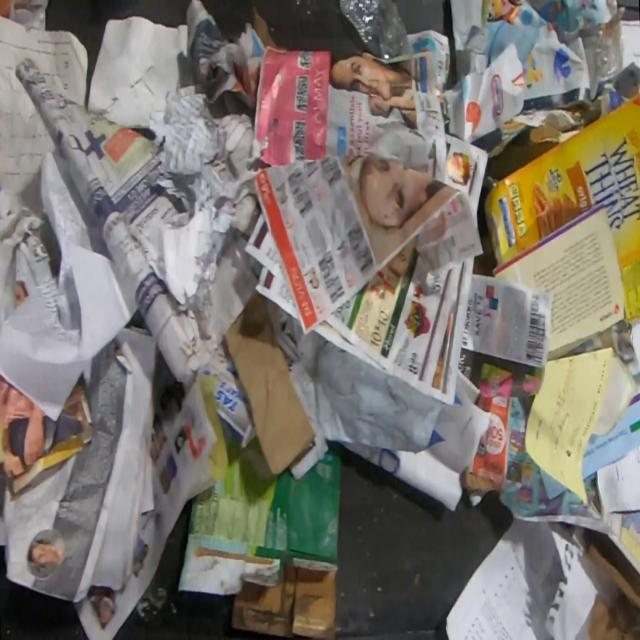cardboard: (482, 89, 640, 323), (176, 420, 343, 640), (221, 290, 318, 475), (586, 528, 640, 640)
rigid_plastic: (338, 0, 416, 61)
